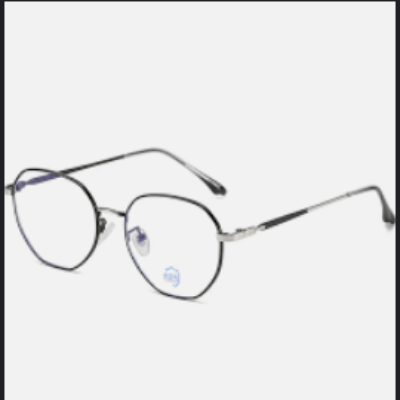glasses: (5, 145, 400, 308)
